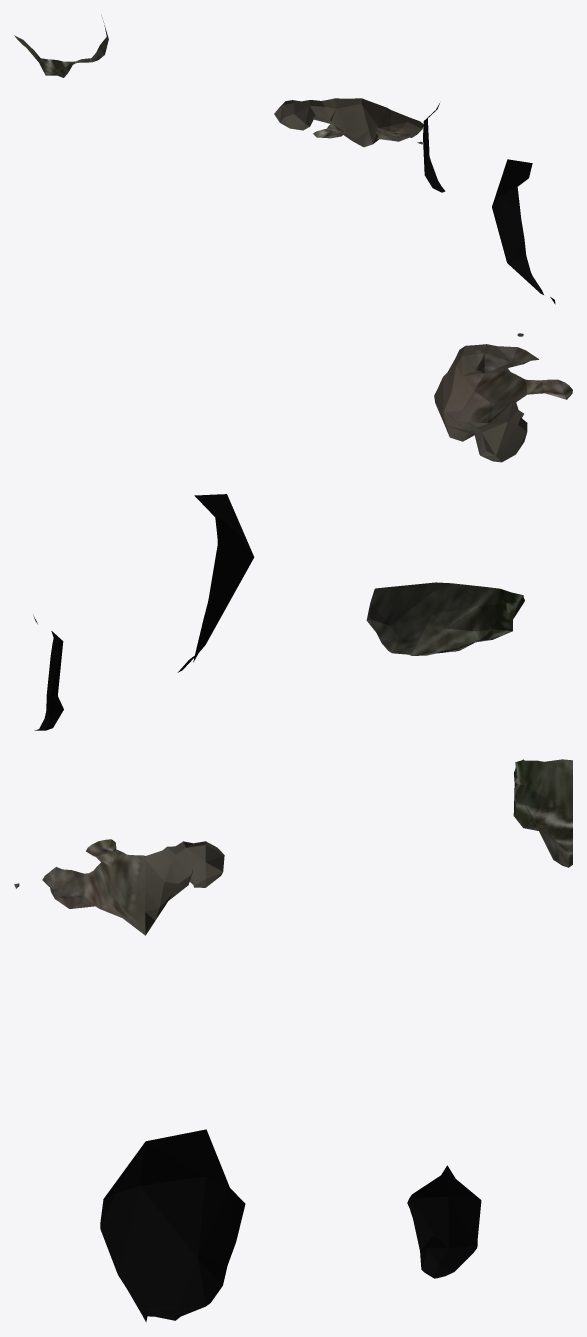
3 renders of one model, top to bottom at view 1: azimuth 30°, elevation 25°; view 2: azimuth 150°, elevation 25°; view 3: azimuth 270°, elevation 25°, orthographic. The views are drawn at different scales.
Size of the model in its own units: 2.95 by 1.8 by 2.86.
1 material, 1 textured.
